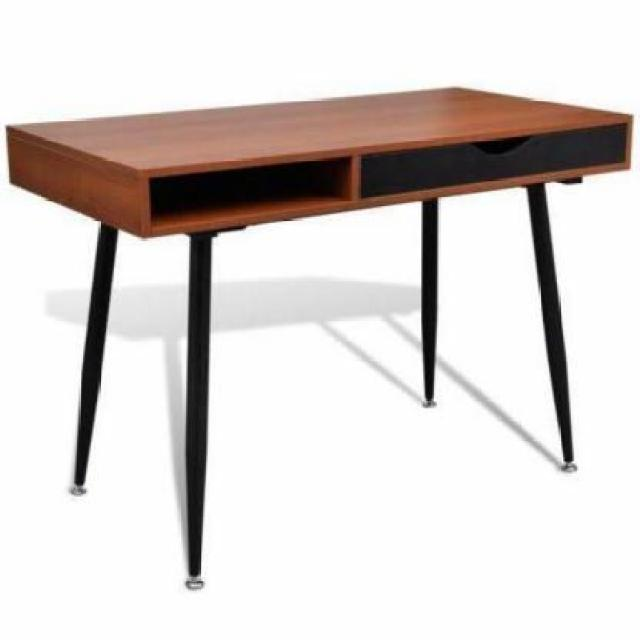tables: (4, 83, 634, 589)
